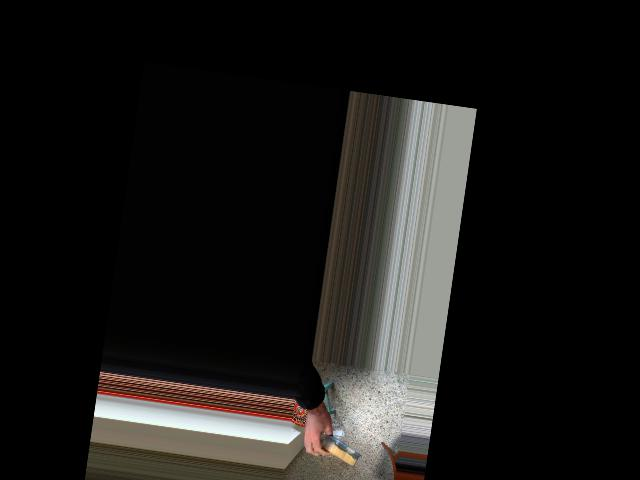cheese: (293, 419, 367, 480)
